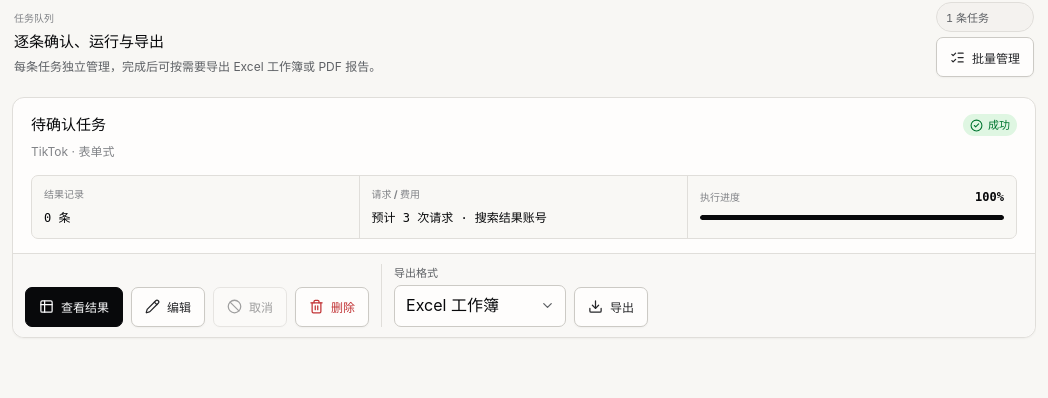
Test: TaskQueue › 导出失败时在当前任务显示明确错误
Click the button with aria-label "导出": (611, 306) [574,286,648,326]
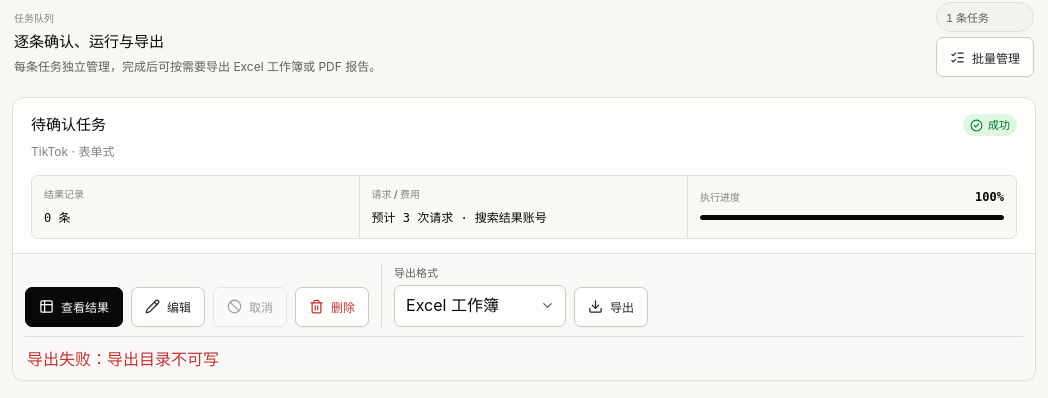
Now the message "导出失败：导出目录不可写" is shown, box [27,348,219,368]
